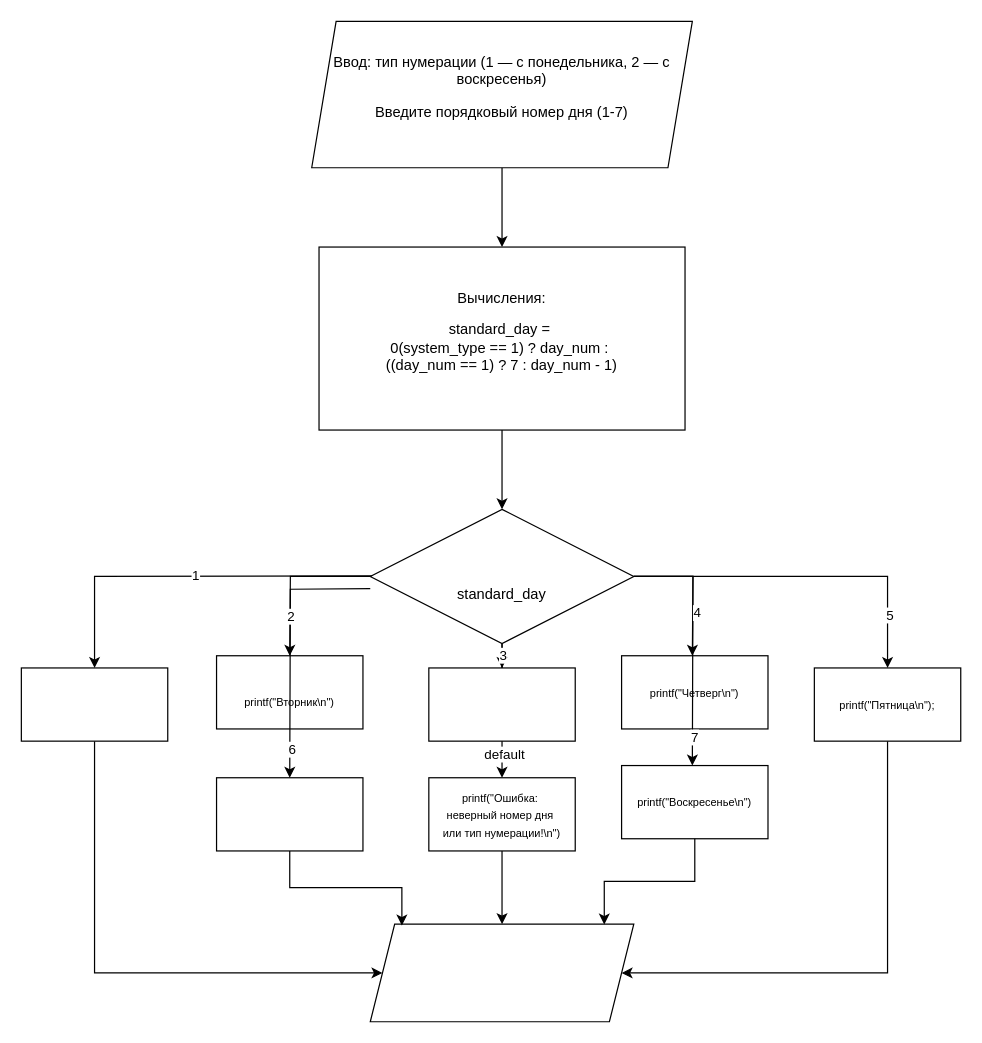
The diagram is 982 pixels wide and 1043 high, and some of its shapes have lost their labels. Each missing label, with the centre of its shape:
printf("Понедельник\n"): point 94,704
printf("Среда\n"): point 501,704
printf("Суббота\n"): point 289,814
Вывод результата:: point 501,972
